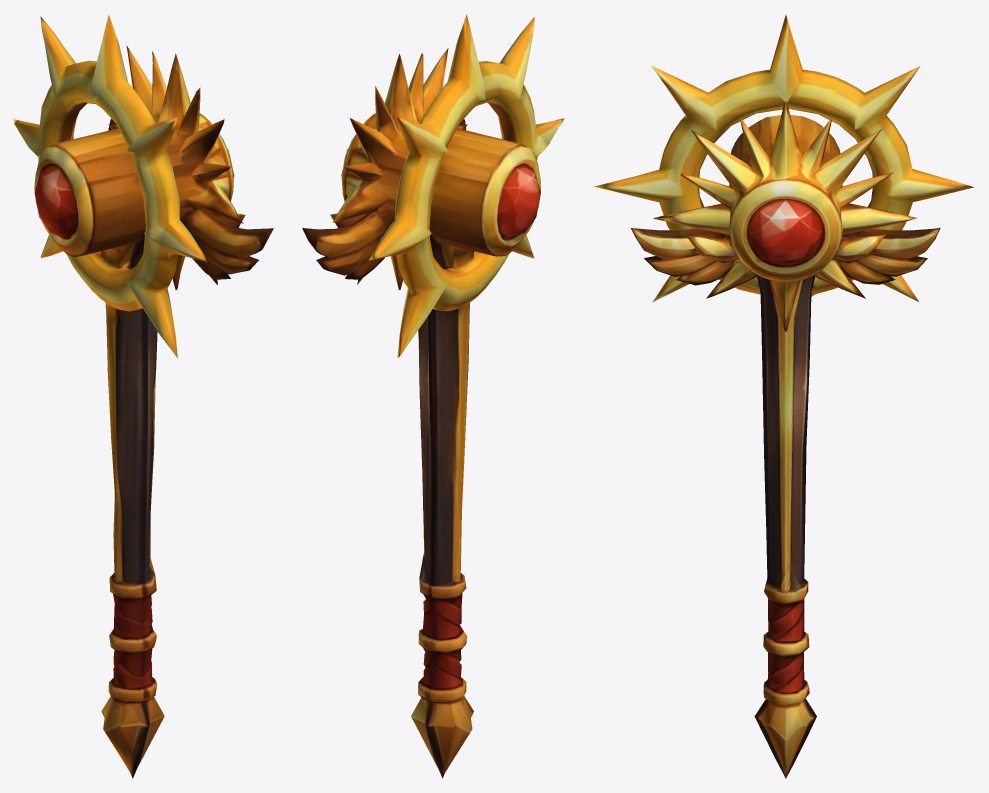
File: w_sun--staff.glb
3 views of the same model, side by side, from view 1: azimuth 30°, elevation 25°; view 2: azimuth 150°, elevation 25°; view 3: azimuth 270°, elevation 25° (orthographic). The views are drawn at different scales.
Parts seen in each view (by area): view 1: Weapon; view 2: Weapon; view 3: Weapon.
Part boxes in pixels (x1,y1,x2,y2): Weapon: [14, 14, 273, 778]; Weapon: [302, 14, 564, 778]; Weapon: [594, 14, 973, 778].
Bounding box in the file's own units: 0.2445 × 0.9857 × 0.4521.
Materials: 1 (1 with a texture image).
